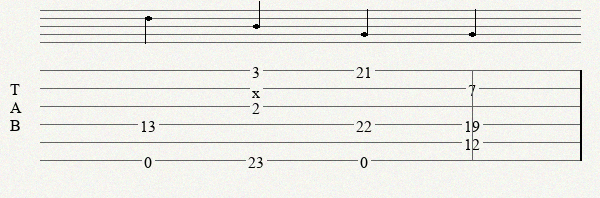0: (144, 153, 156, 168), (360, 153, 372, 168)
12: (464, 135, 484, 150)
13: (140, 117, 160, 132)
19: (464, 117, 484, 132)
2: (252, 99, 264, 114)
21: (356, 63, 376, 78)
22: (356, 117, 376, 132)
23: (248, 153, 268, 168)
3: (252, 63, 264, 78)
7: (468, 81, 480, 96)
x: (252, 83, 264, 94)
